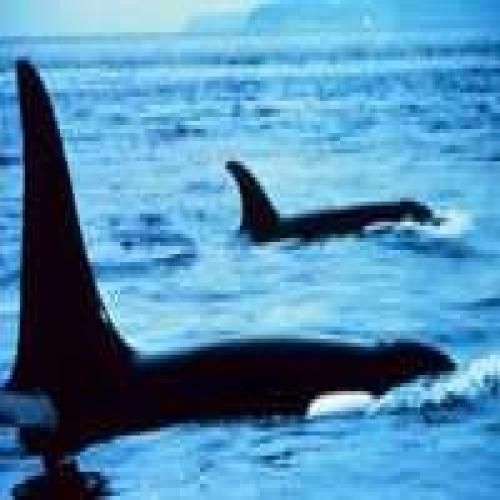killer_whale-endangered: (0, 46, 466, 462), (219, 129, 454, 279)
